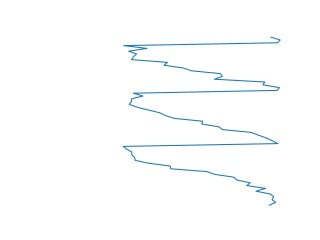distributaryMouthBar: (121, 35, 281, 207)
